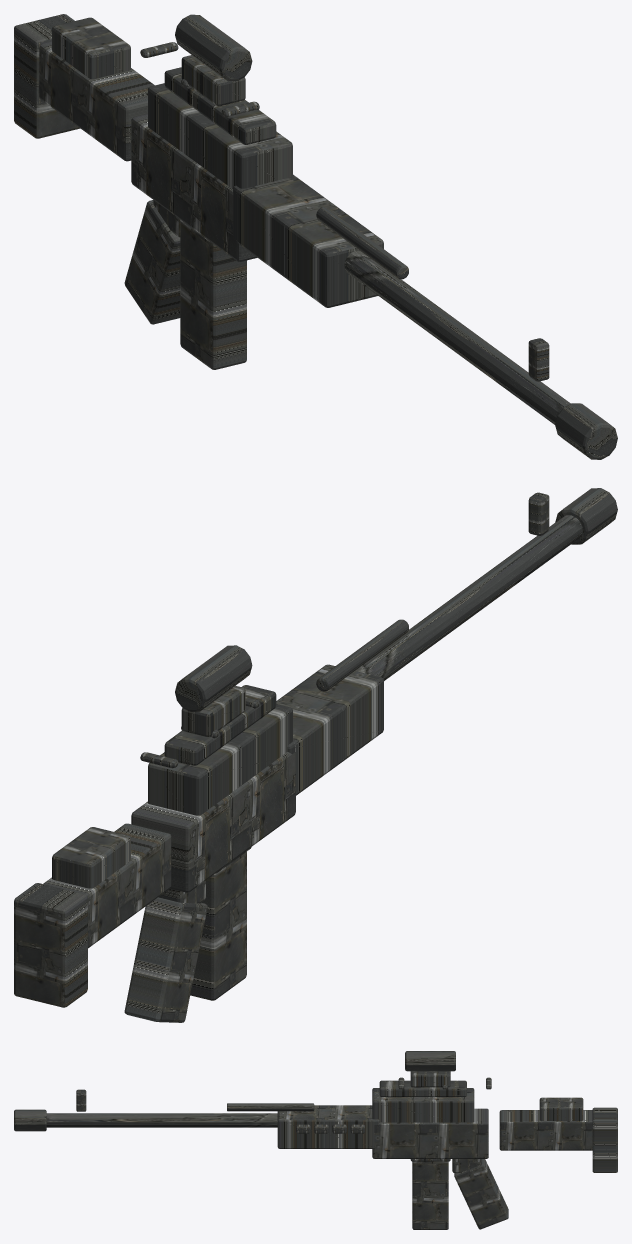
File: rifle.glb
3 renders of one model, top to bottom at view 1: azimuth 30°, elevation 25°; view 2: azimuth 150°, elevation 25°; view 3: azimuth 270°, elevation 25°, orthographic. The views are drawn at different scales.
Parts seen in each view (by area): view 1: rifle; view 2: rifle; view 3: rifle.
Boxes of the visible parts, bbox=[...] form: rifle: bbox=[14, 14, 617, 459]; rifle: bbox=[14, 488, 617, 1022]; rifle: bbox=[14, 1051, 617, 1229].
Size of the model in its own units: 0.057 by 0.264 by 0.83.
Materials: 4 (4 with a texture image).
